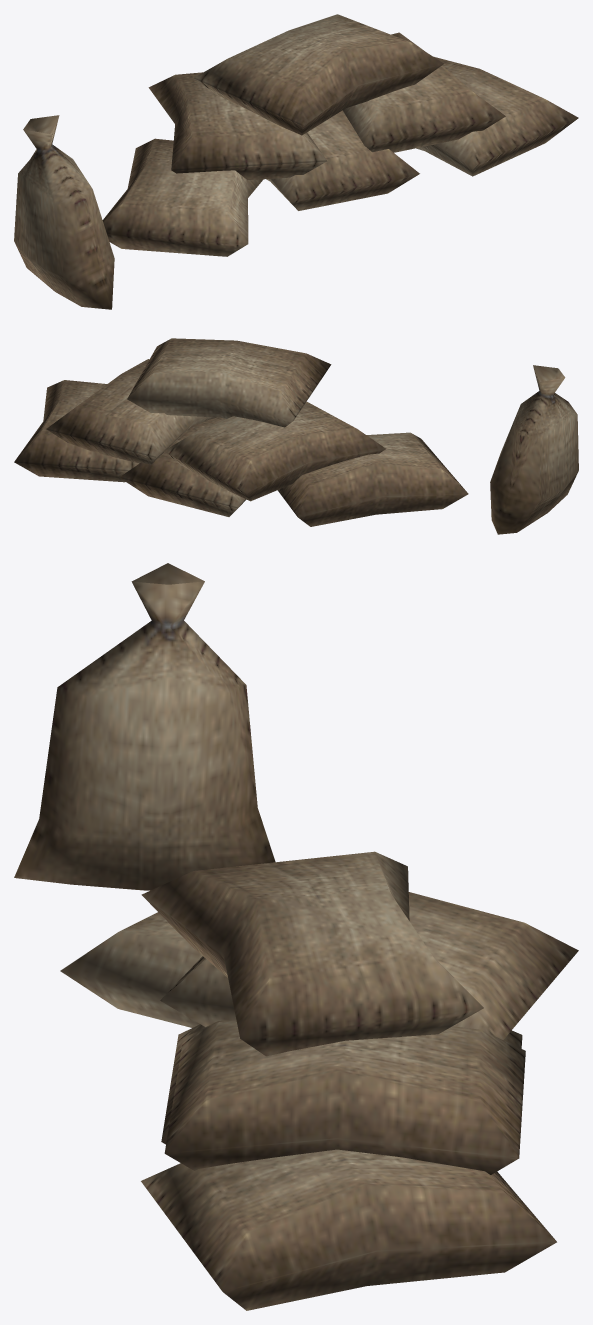
Rendered from SC_tamalagebi_40.FBX.
3 renders of one model, top to bottom at view 1: azimuth 30°, elevation 25°; view 2: azimuth 150°, elevation 25°; view 3: azimuth 270°, elevation 25°, orthographic. The views are drawn at different scales.
Visible parts, largest first — view 1: SC_tamalagebi_40; view 2: SC_tamalagebi_40; view 3: SC_tamalagebi_40.
Part boxes in pixels (bbox=[...]): SC_tamalagebi_40: bbox=[14, 14, 578, 309]; SC_tamalagebi_40: bbox=[14, 338, 578, 534]; SC_tamalagebi_40: bbox=[14, 563, 578, 1310].
Bounding box in the file's own units: 286 × 81.97 × 141.
